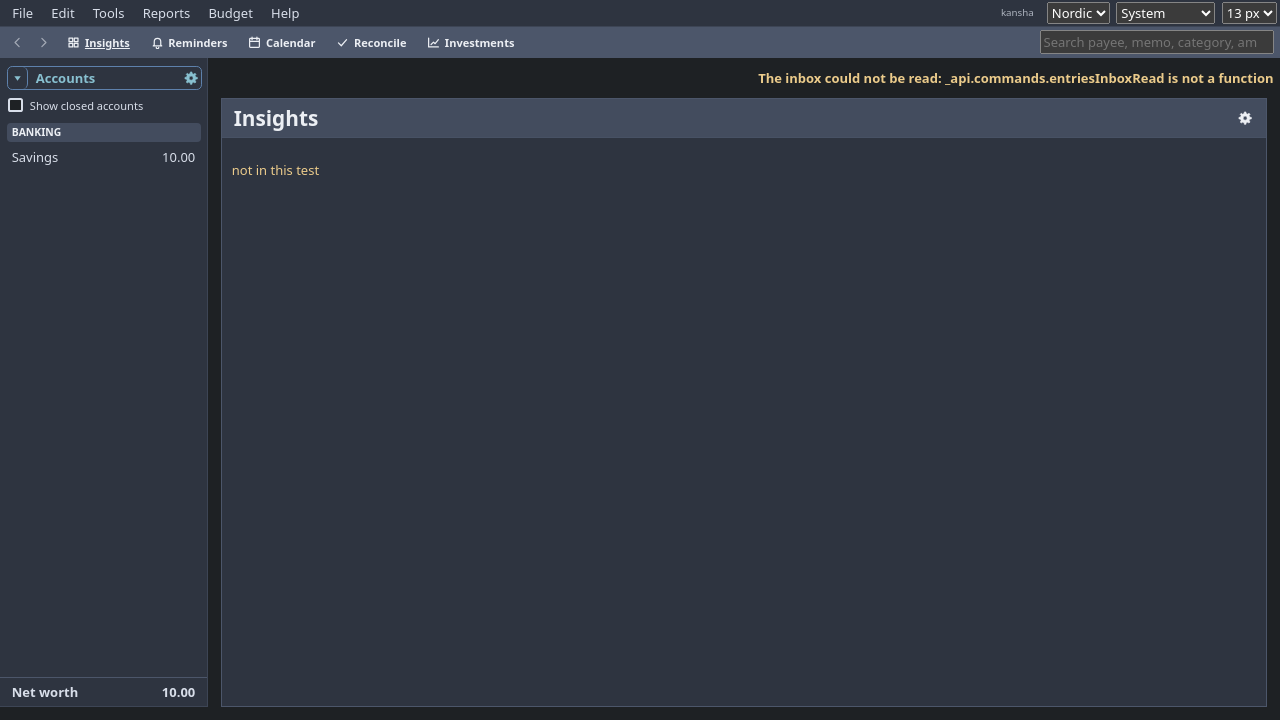
Test: App shell › opens the reminders list and the calendar
The width and height of the screenshot is (1280, 720).
Step 1. Click the button "Reminders" → (189, 42), box [142,32,236,53]
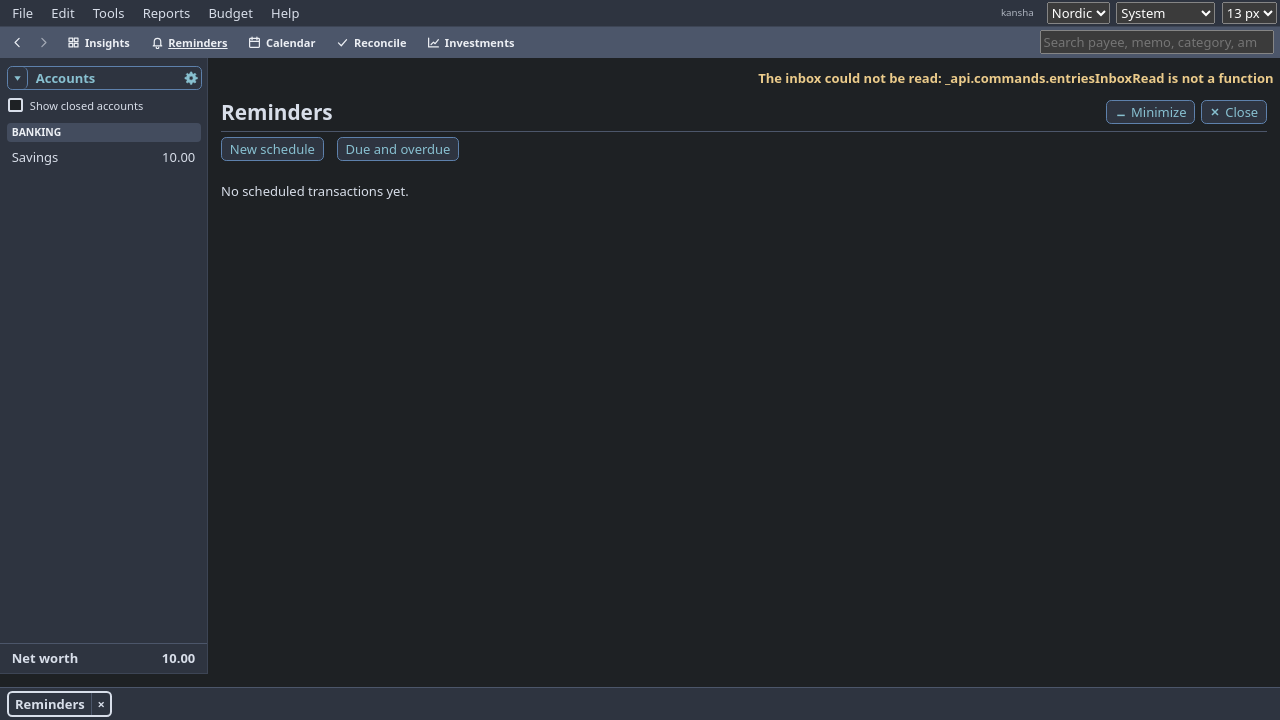
Check: the text "No scheduled transactions yet." is shown, box [221,182,409,200]
Check: the heading "Reminders" is shown, box [221,98,333,126]
Step 2. Click the button "Calendar" → (282, 42), box [240,32,324,53]
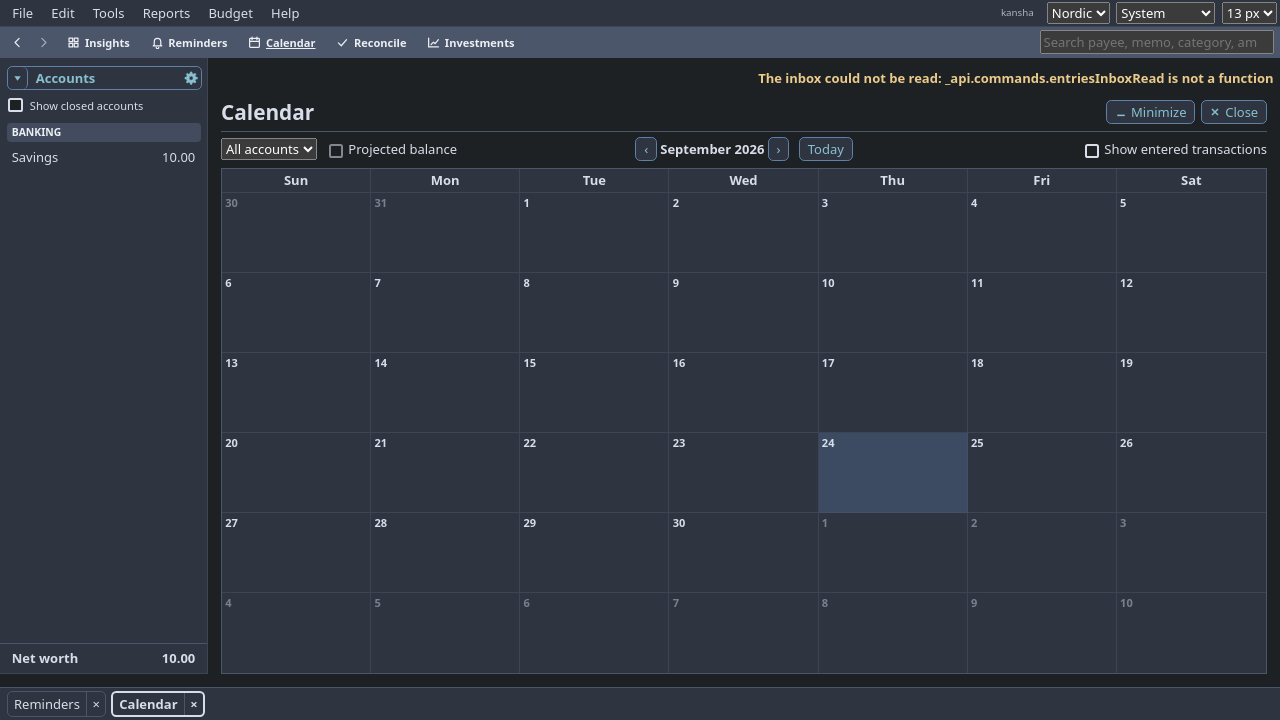
Check: the table named "Month" is shown, box [221,168,1267,674]
Check: the text "September 2026" is shown, box [660,140,764,158]
Step 3. Click the button named "Next month" → (778, 149), box [768,137,789,161]
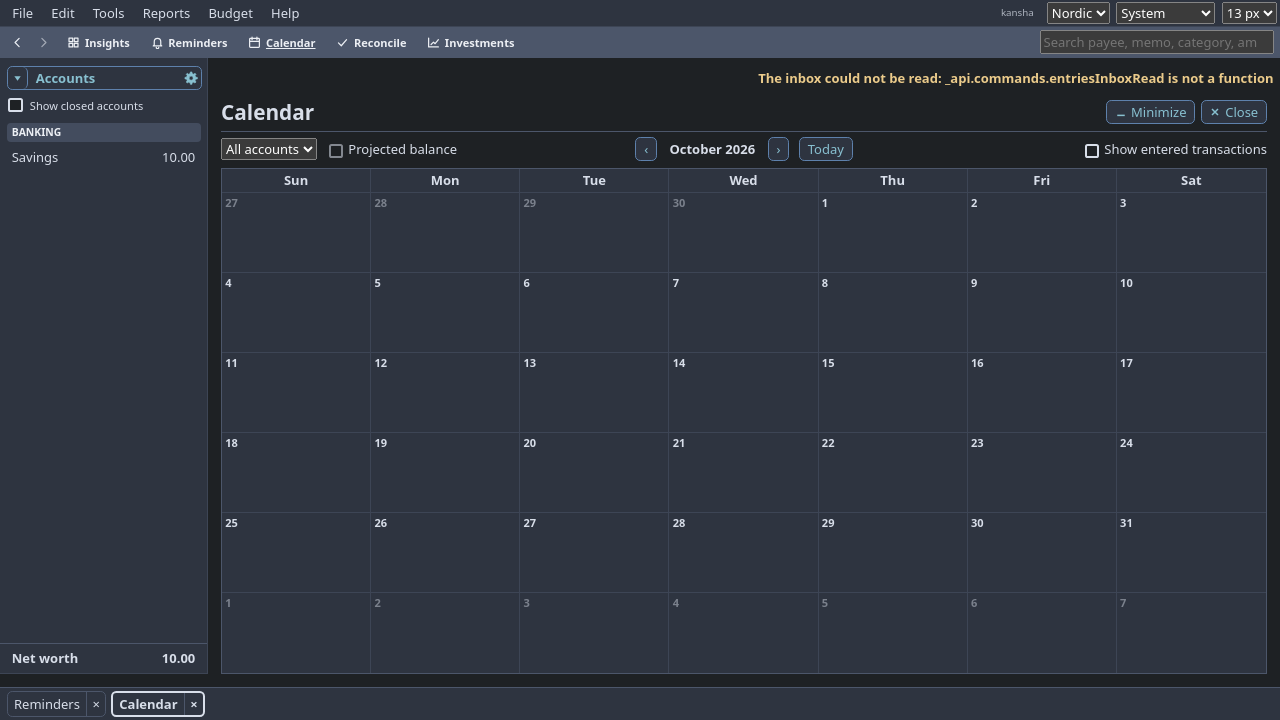
Check: the text "October 2026" is shown, box [669,140,755,158]
